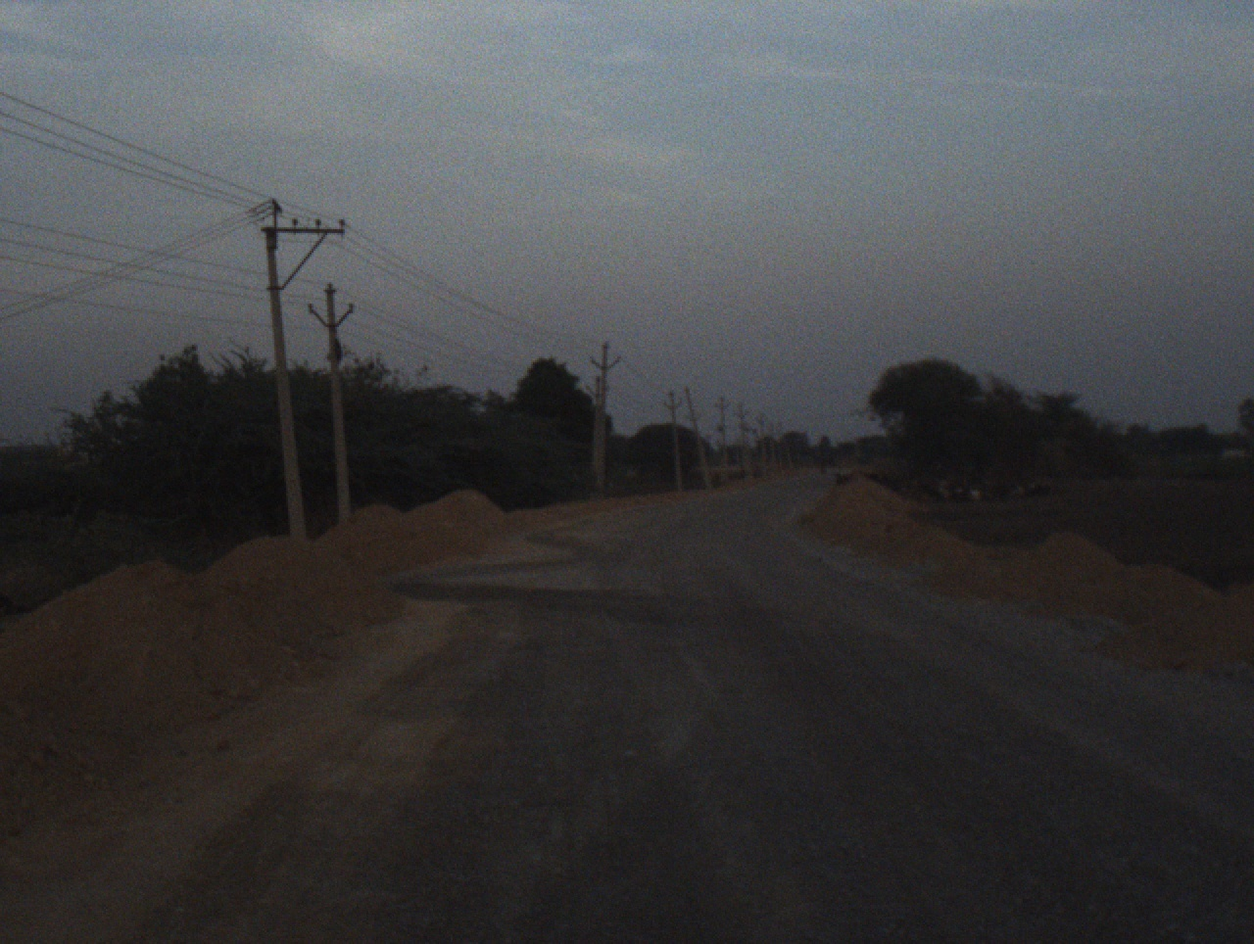animal: (866, 468, 919, 490), (929, 477, 970, 504), (986, 481, 1042, 498), (830, 467, 858, 497)
